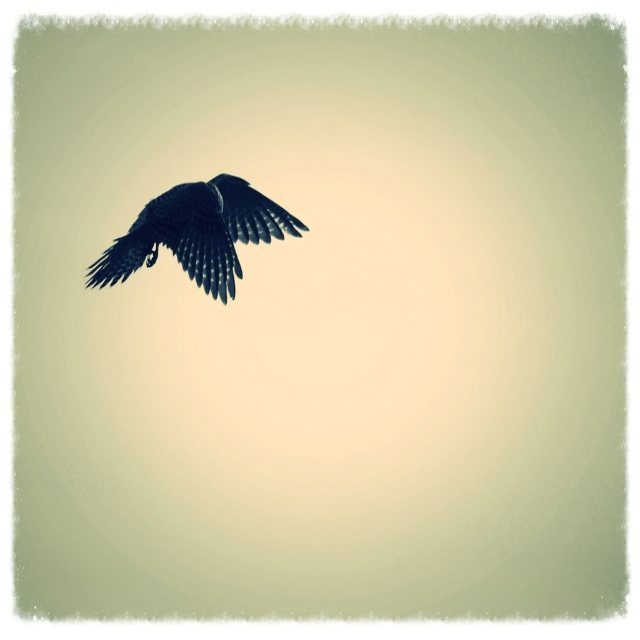Raven: (80, 151, 304, 303)
